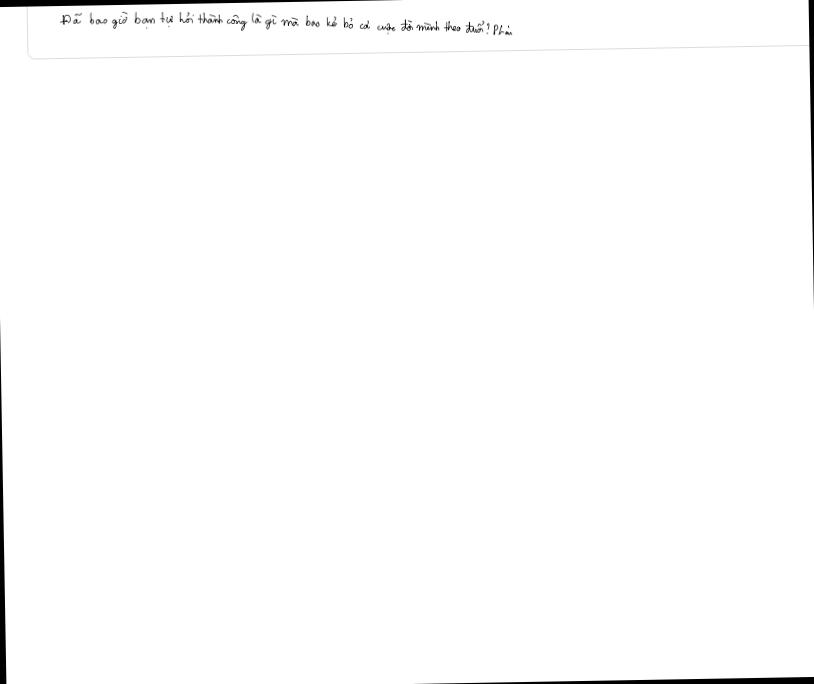text: (57, 1, 518, 49)
